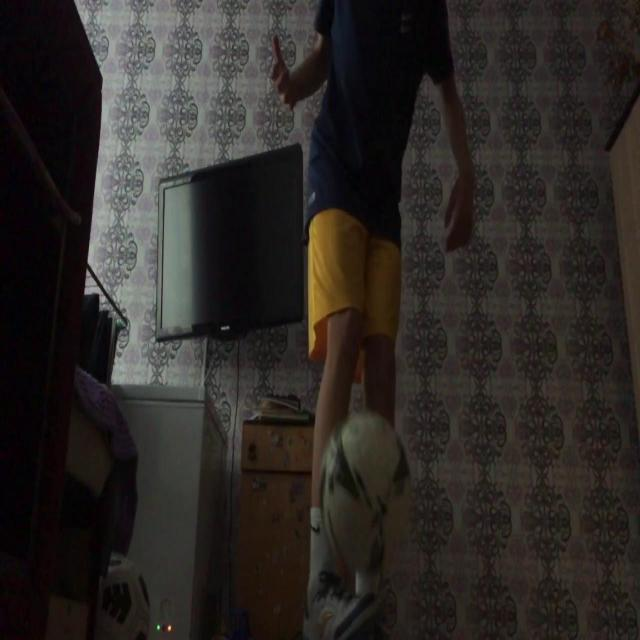ball: (316, 409, 416, 580), (94, 554, 152, 639)
